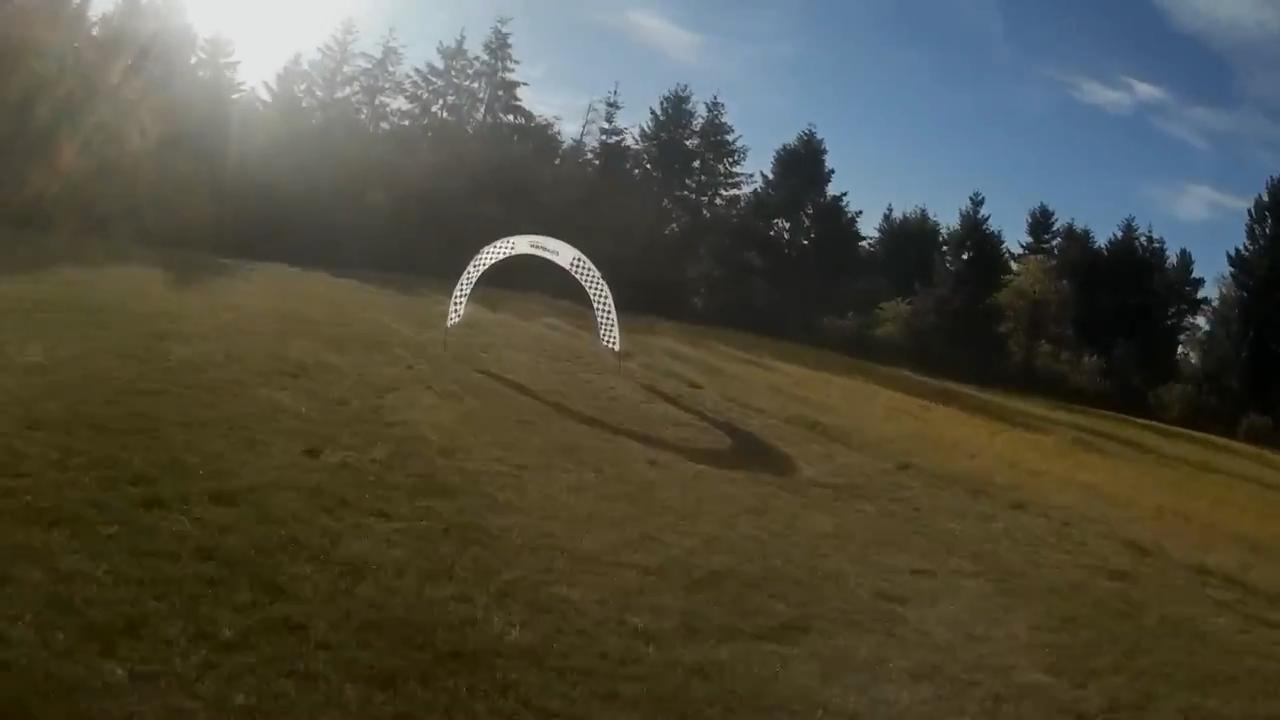gate: (447, 232, 617, 349)
